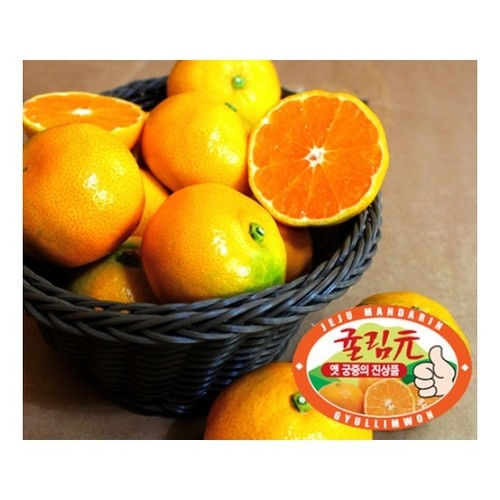mandarin: (247, 87, 389, 230), (22, 124, 146, 267), (141, 184, 286, 300), (203, 362, 372, 438), (140, 91, 254, 197), (357, 292, 470, 378), (164, 60, 282, 126), (24, 92, 146, 151), (70, 237, 157, 309)
